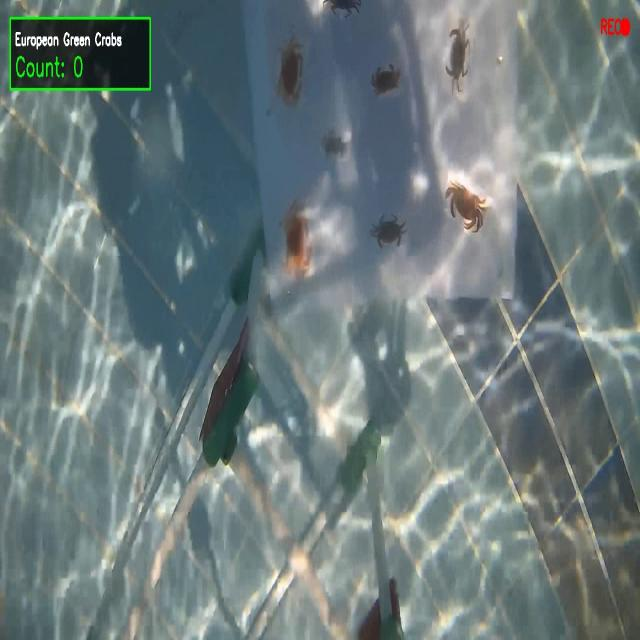European_Green_Crab: (439, 8, 477, 101), (366, 208, 409, 256), (321, 0, 365, 22), (319, 128, 348, 159)
